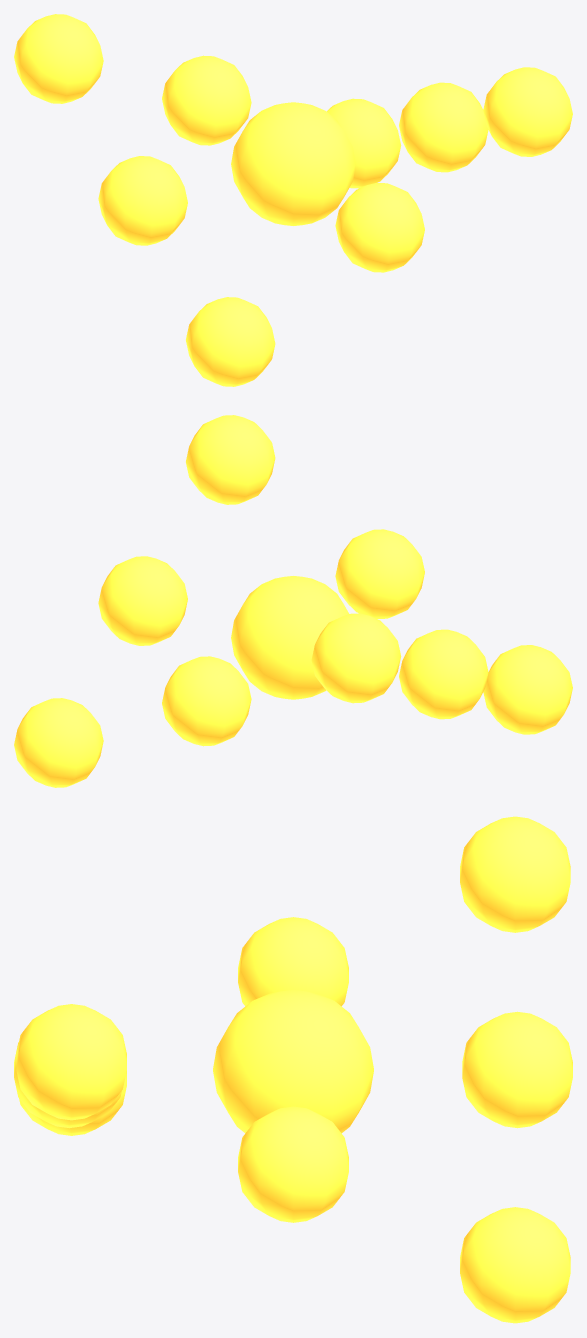
Rendered from firefly_swarm.glb.
The picture shows the model from 3 angles, top to bottom: view 1: azimuth 30°, elevation 25°; view 2: azimuth 150°, elevation 25°; view 3: azimuth 270°, elevation 25°; orthographic projection. The views are drawn at different scales.
Parts seen in each view (by area): view 1: core; view 2: core; view 3: core.
Boxes of the visible parts, <box> form: core: <box>14,14,572,386</box>; core: <box>14,415,572,787</box>; core: <box>14,816,572,1323</box>.
Bounding box in the file's own units: 1.26 × 0.76 × 1.25.
